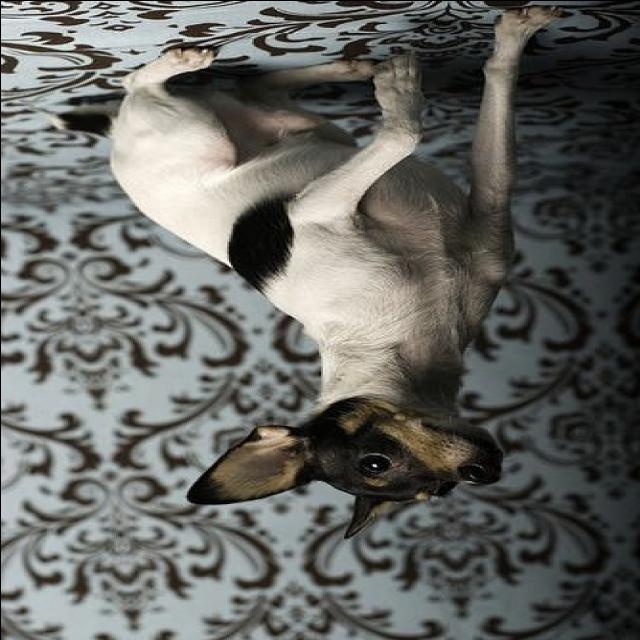toy_terrier: (107, 5, 564, 544)
